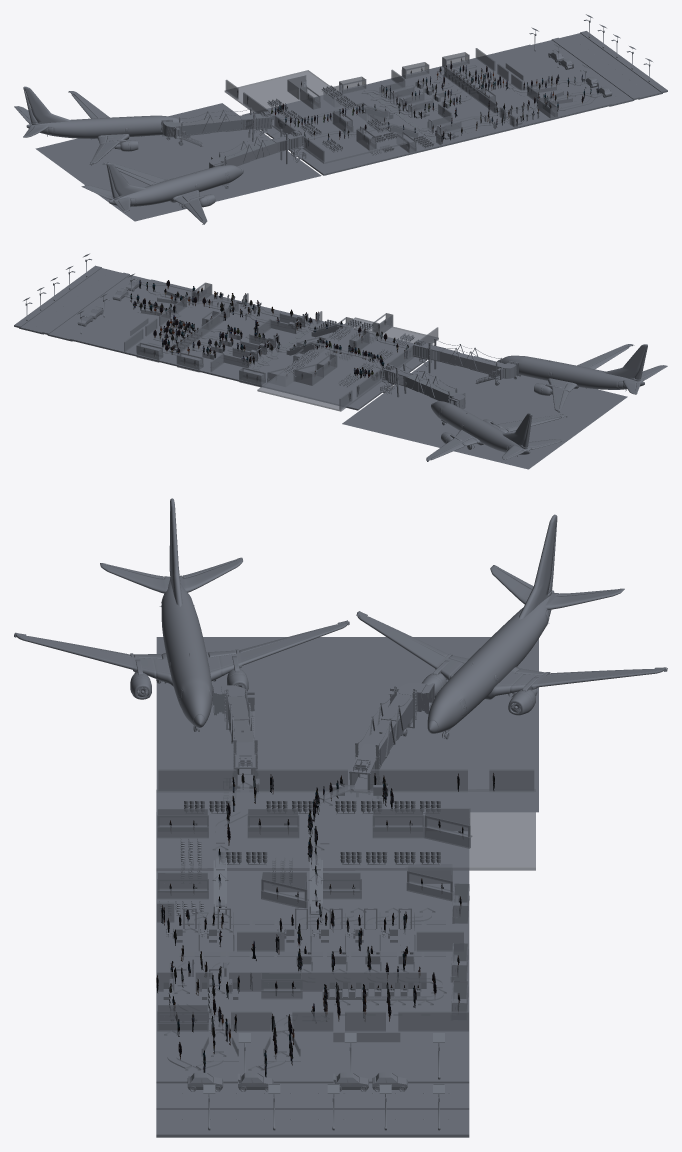
File: plastico.glb
3 renders of one model, top to bottom at view 1: azimuth 30°, elevation 25°; view 2: azimuth 150°, elevation 25°; view 3: azimuth 270°, elevation 25°, orthographic. The views are drawn at different scales.
Parts seen in each view (by area): view 1: Wheels.Front_0, Cube.001_0, espaldas-gloriasaav-mx_0; view 2: Wheels.Front_0, Cube.001_0, espaldas-gloriasaav-mx_0, caminando-edithza-mx.001_0; view 3: Wheels.Front_0, Cube.001_0, espaldas-gloriasaav-mx_0.
Boxes of the visible parts, x1,y1,x2,y2 form: Wheels.Front_0: (14,14,667,224); Cube.001_0: (224,48,603,163); espaldas-gloriasaav-mx_0: (279,65,598,126); Wheels.Front_0: (14,253,667,469); Cube.001_0: (124,282,438,411); espaldas-gloriasaav-mx_0: (136,280,384,378); caminando-edithza-mx.001_0: (142,280,387,377); Wheels.Front_0: (14,498,667,1137); Cube.001_0: (156,769,535,1077); espaldas-gloriasaav-mx_0: (177,780,415,1077).
Bounding box in the file's own units: 19.82 × 2.11 × 10.36.
Materials: 31 (28 with a texture image).
